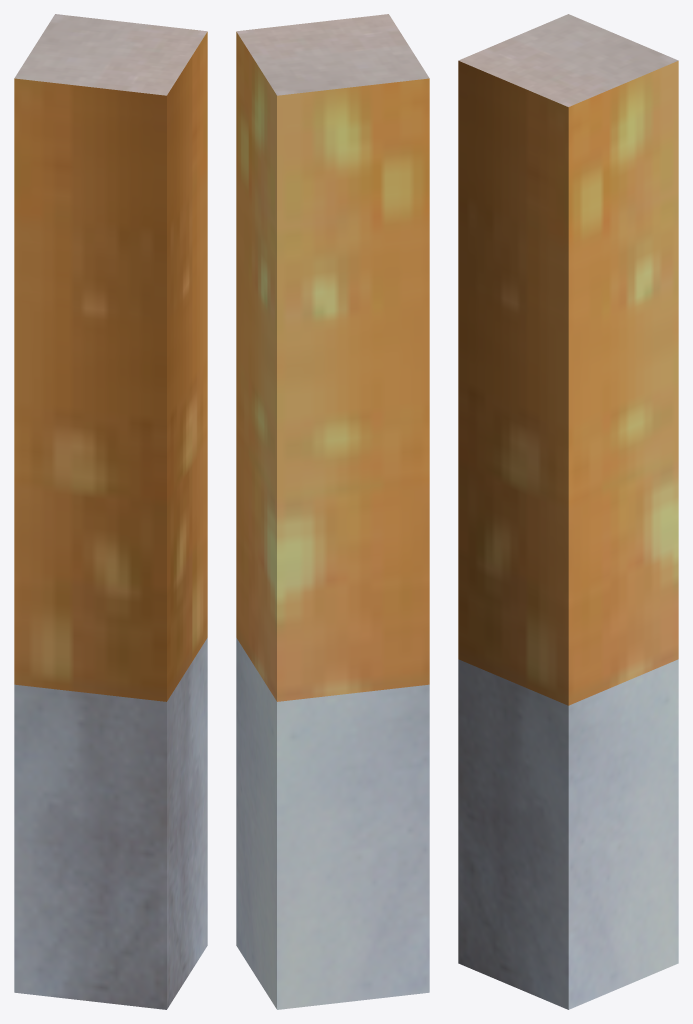
Rendered from CigaretteButt.fbx.
3 views of the same model, side by side, from view 1: azimuth 30°, elevation 25°; view 2: azimuth 150°, elevation 25°; view 3: azimuth 270°, elevation 25° (orthographic).
Visible parts, largest first — view 1: CigaretteButt; view 2: CigaretteButt; view 3: CigaretteButt.
Part boxes in pixels (<box>): CigaretteButt: <box>14,14,207,1009</box>; CigaretteButt: <box>236,14,429,1009</box>; CigaretteButt: <box>458,14,678,1009</box>.
Size of the model in its own units: 10.47 by 47.29 by 10.47.
